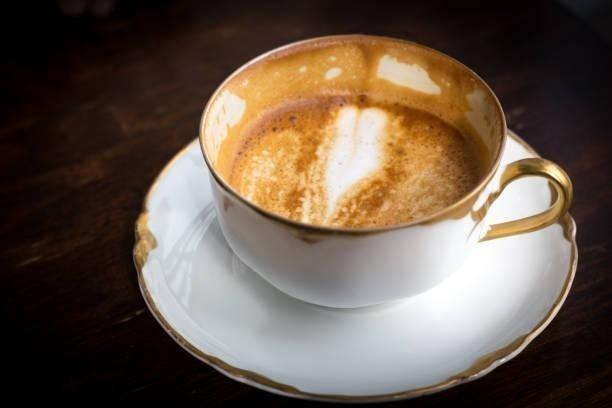cup-handle: (197, 32, 574, 313)
